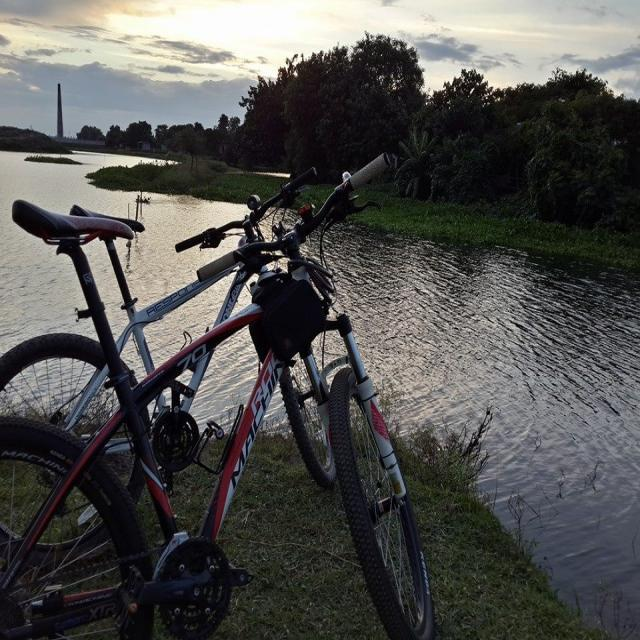Bicycle: (1, 149, 431, 640), (1, 157, 336, 552)
